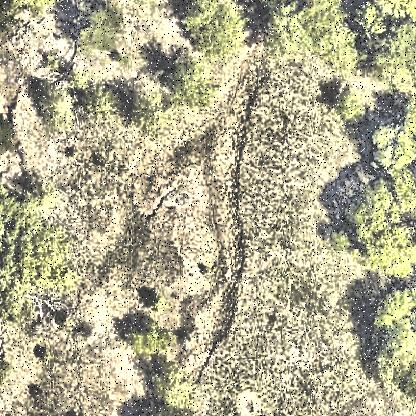tree-top: (1, 182, 77, 294), (335, 185, 416, 279), (359, 283, 416, 394), (304, 1, 366, 77), (176, 1, 248, 59), (255, 3, 313, 63), (369, 17, 416, 91), (63, 1, 121, 54), (167, 58, 217, 115), (146, 366, 202, 414), (369, 125, 416, 178), (124, 86, 170, 135), (39, 85, 79, 131), (351, 1, 416, 29), (124, 322, 175, 356), (330, 90, 370, 124), (82, 84, 118, 118)
